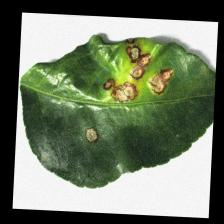canker: (58, 32, 186, 142)
